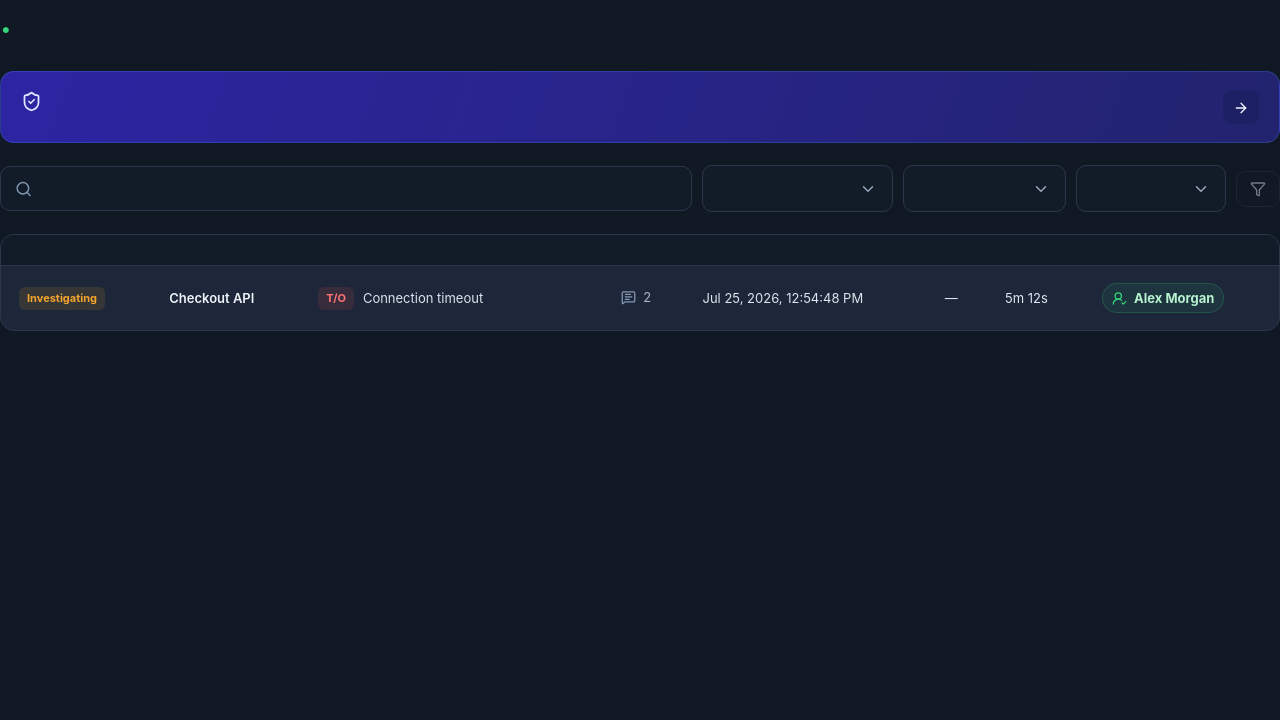
Test: IncidentsPage › renders every loaded incident update in the timeline
Click the button "Checkout API".
click(212, 298)  # box 169,290 -> 254,306
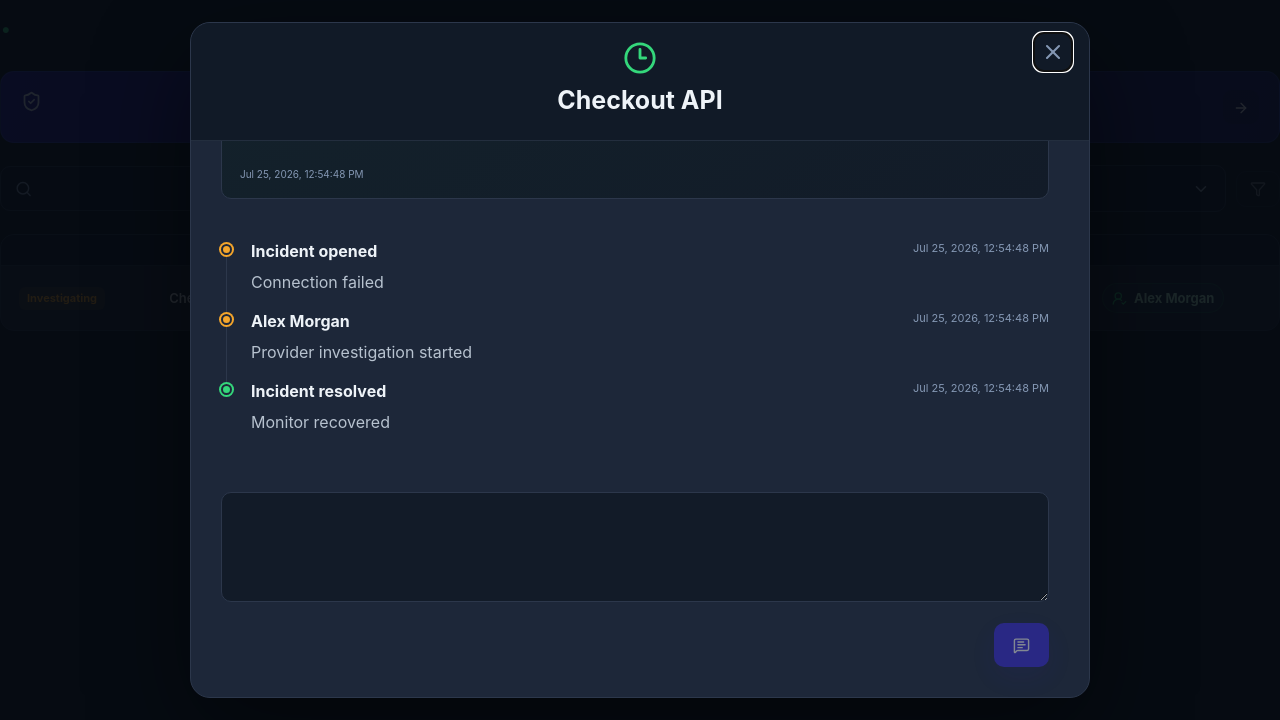
Expected: the text "Connection failed" is shown, 251,272 -> 384,292
Expected: the text "Provider investigation started" is shown, 251,342 -> 472,362
Expected: the text "Monitor recovered" is shown, 251,412 -> 390,432
